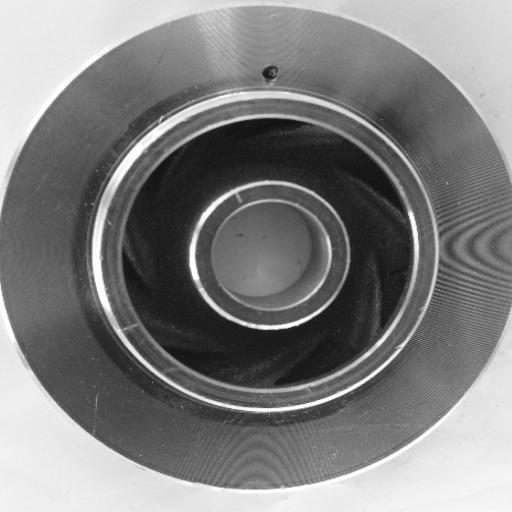pit: (254, 56, 284, 86)
unpolished_casting: (3, 4, 512, 491)
